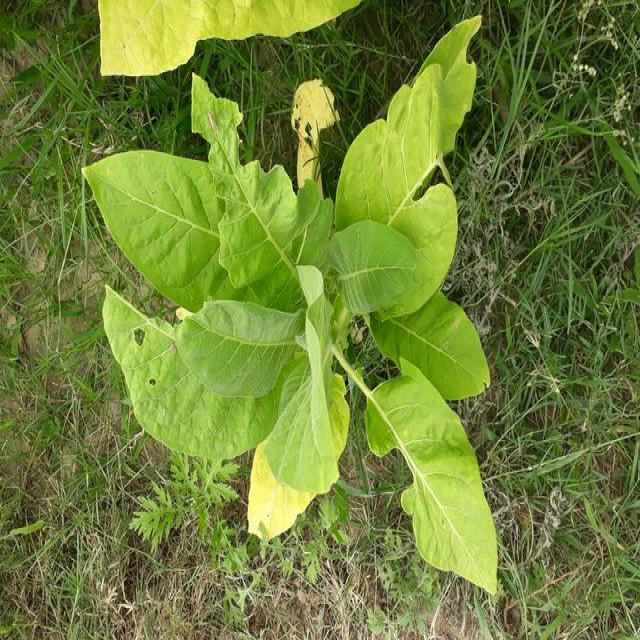crop: (84, 83, 508, 600), (103, 0, 377, 63)
